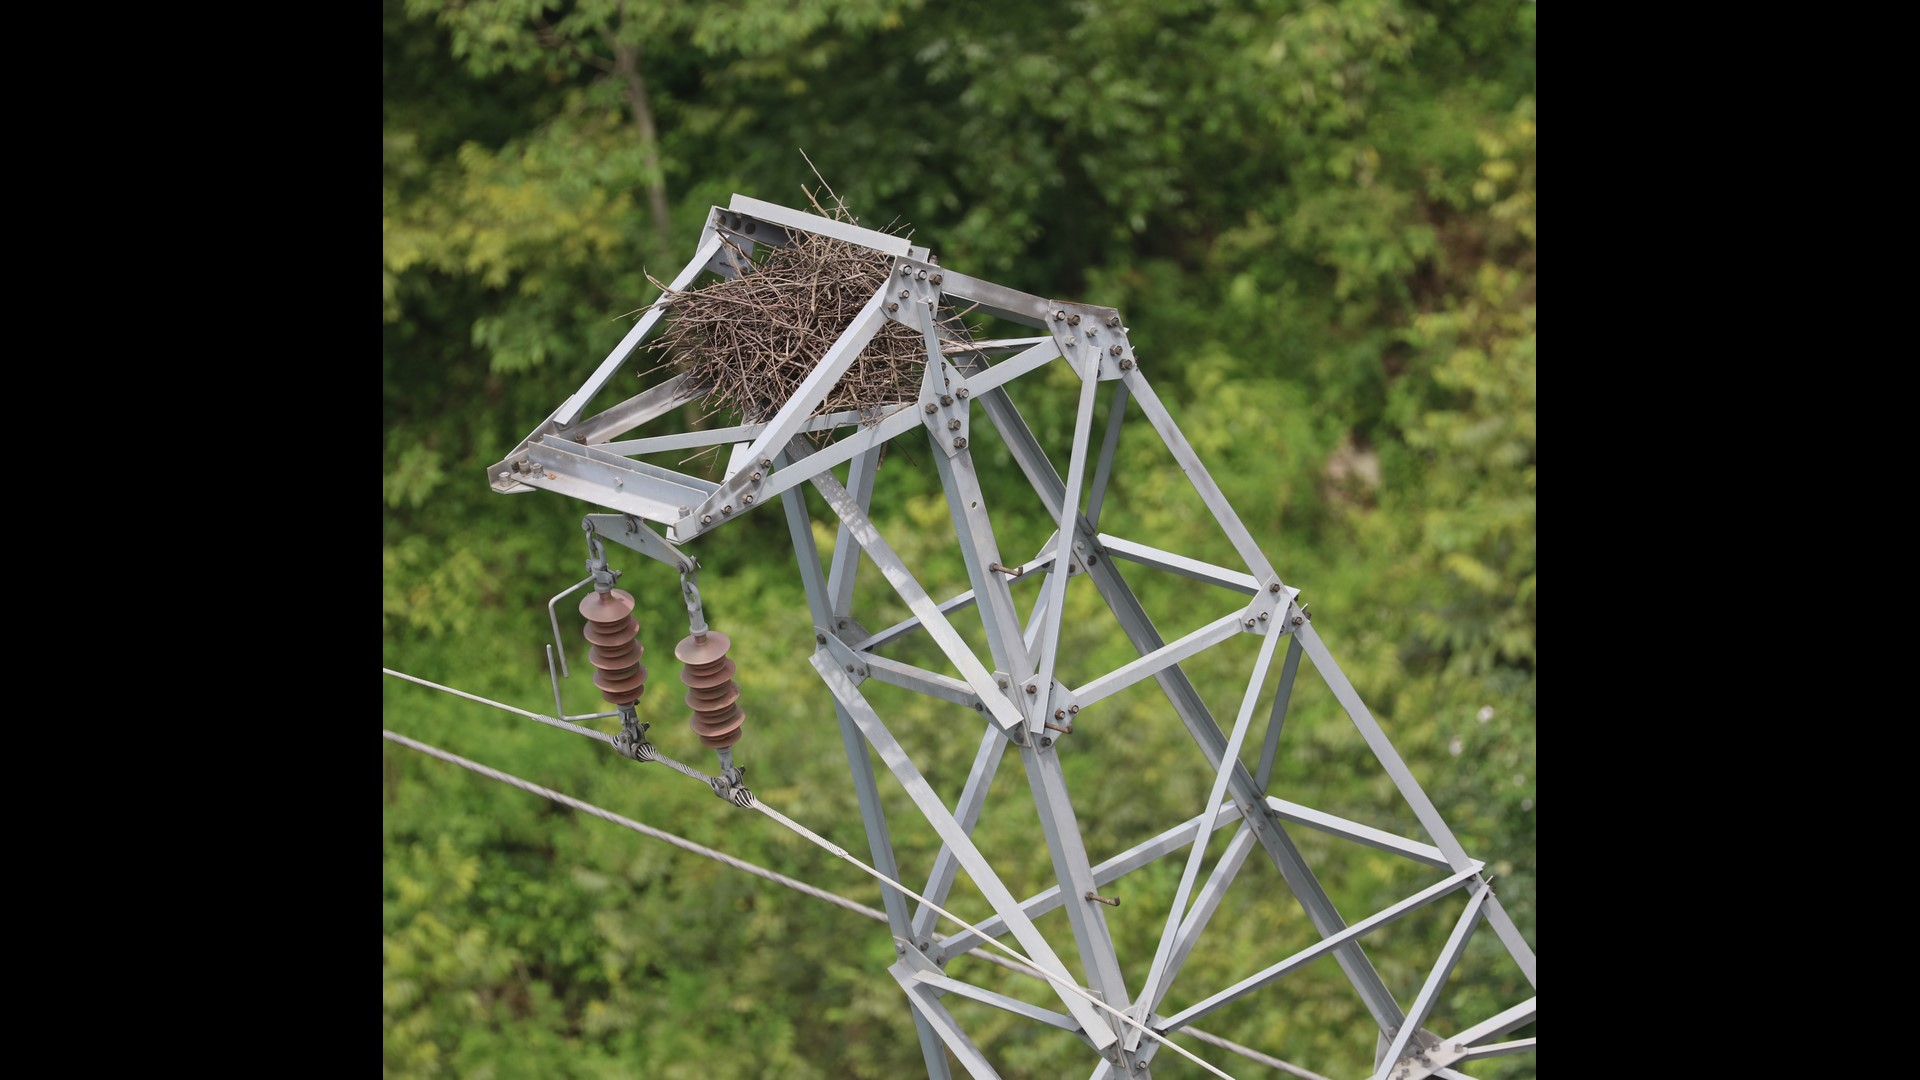niaowo: (642, 204, 971, 429)
